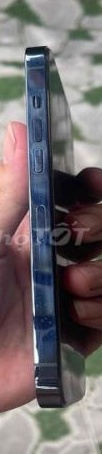scratch: (30, 281, 62, 353)
